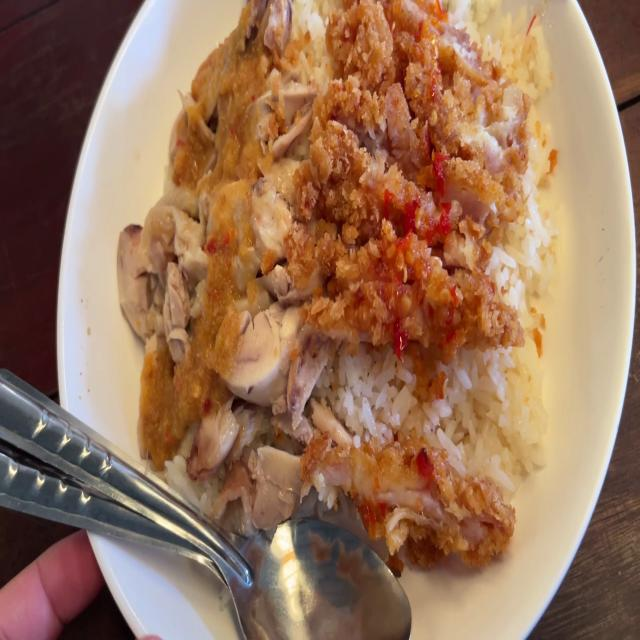boiled_chicken: (125, 0, 306, 453)
chicken_rice: (117, 0, 554, 585)
fried_chicken: (317, 0, 534, 360), (305, 412, 520, 573)
